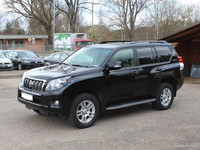car: (17, 40, 185, 128)
